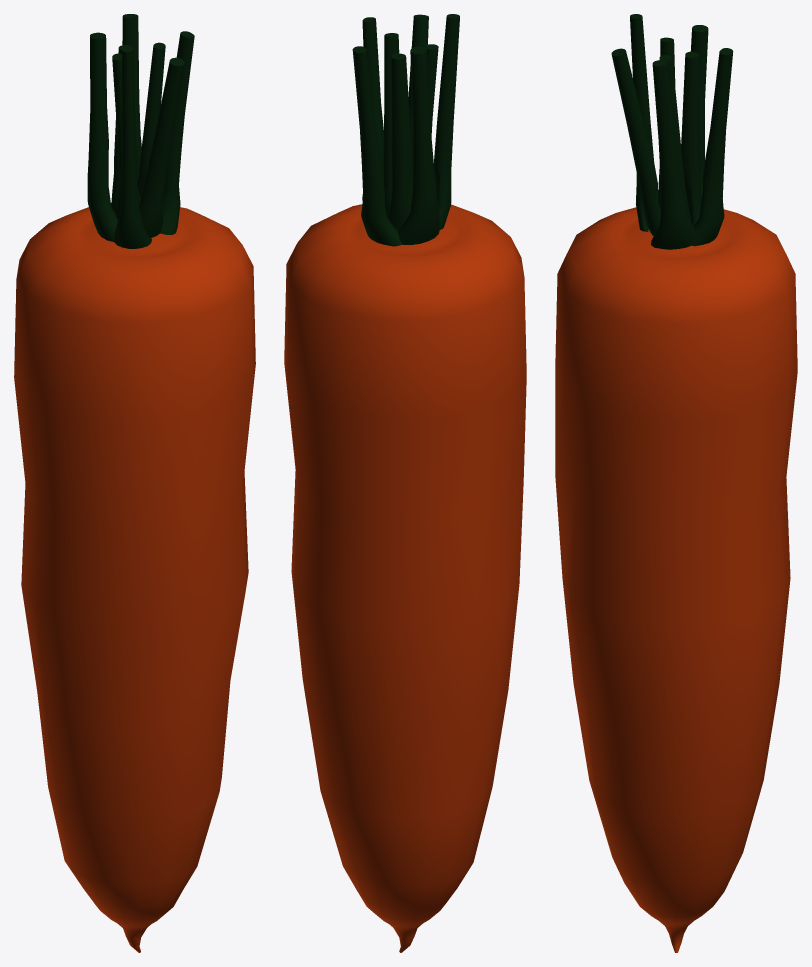
File: Carrot.fbx
3 views of the same model, side by side, from view 1: azimuth 30°, elevation 25°; view 2: azimuth 150°, elevation 25°; view 3: azimuth 270°, elevation 25° (orthographic).
Parts seen in each view (by area): view 1: Carrot; view 2: Carrot; view 3: Carrot.
Part boxes in pixels (left/top/right/bottom): Carrot: left=14, top=14, right=255, bottom=952; Carrot: left=284, top=14, right=526, bottom=952; Carrot: left=555, top=14, right=797, bottom=952.
Bounding box in the file's own units: 11.71 × 11.71 × 49.11.
